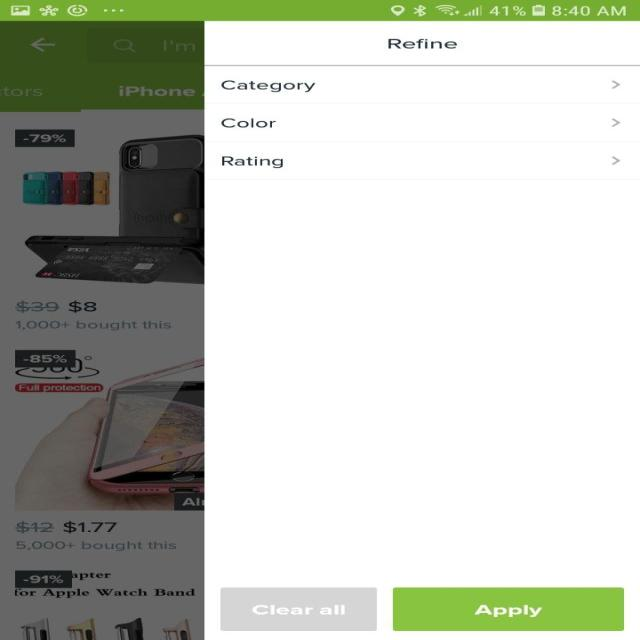Drawer: (203, 21, 640, 639)
Icon: (610, 80, 620, 89), (610, 156, 620, 165), (610, 119, 620, 127)
Text: (220, 80, 316, 92), (221, 156, 283, 168), (387, 39, 457, 49), (220, 118, 276, 128)
TextButton: (392, 586, 623, 630), (220, 586, 377, 630)
